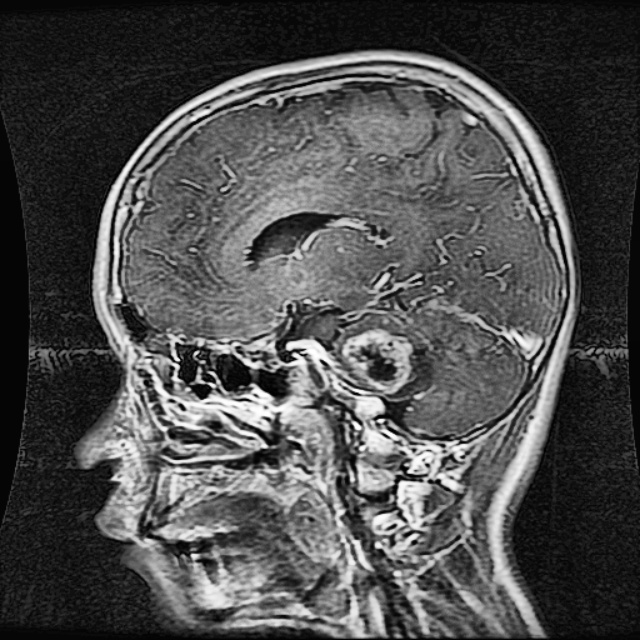Meningioma: (342, 333, 413, 390)
